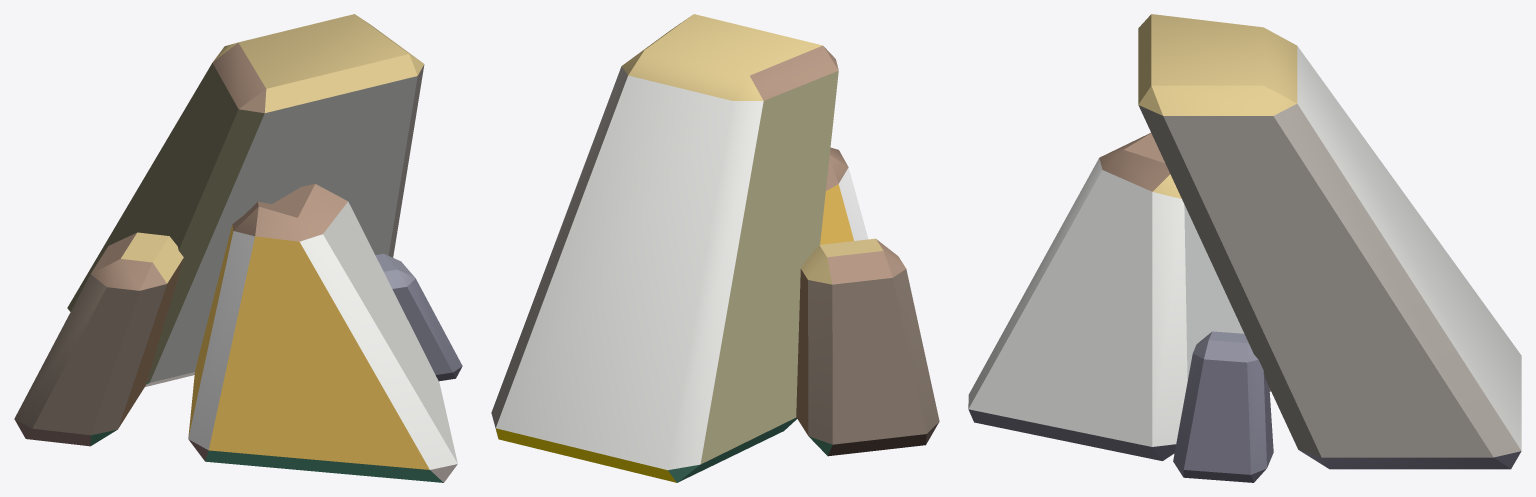
The model's file is rocks.glb.
3 views of the same model, side by side, from view 1: azimuth 30°, elevation 25°; view 2: azimuth 150°, elevation 25°; view 3: azimuth 270°, elevation 25° (orthographic). The views are drawn at different scales.
Parts seen in each view (by area): view 1: Rocks.001; view 2: Rocks.001; view 3: Rocks.001.
Boxes of the visible parts, x1=… form: Rocks.001: x1=14, y1=14, x2=462, y2=482; Rocks.001: x1=491, y1=14, x2=939, y2=482; Rocks.001: x1=968, y1=14, x2=1521, y2=482.
Bounding box in the file's own units: 1.82 × 1.52 × 2.1.
